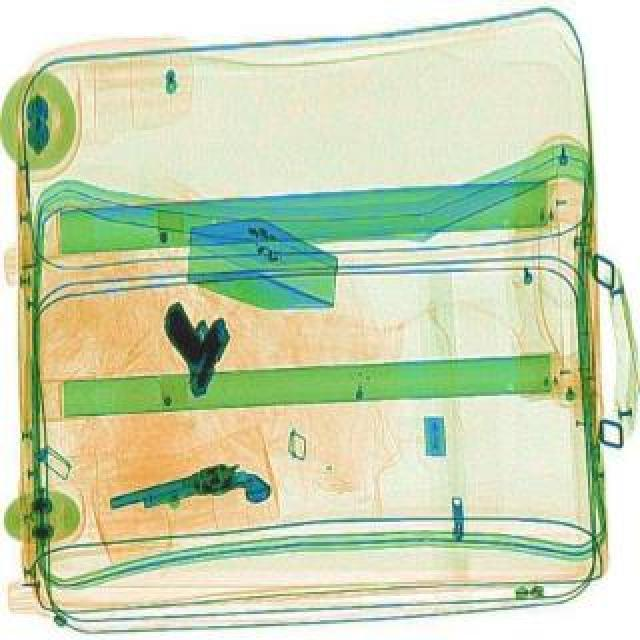gun: (108, 452, 272, 536), (132, 292, 244, 396)
